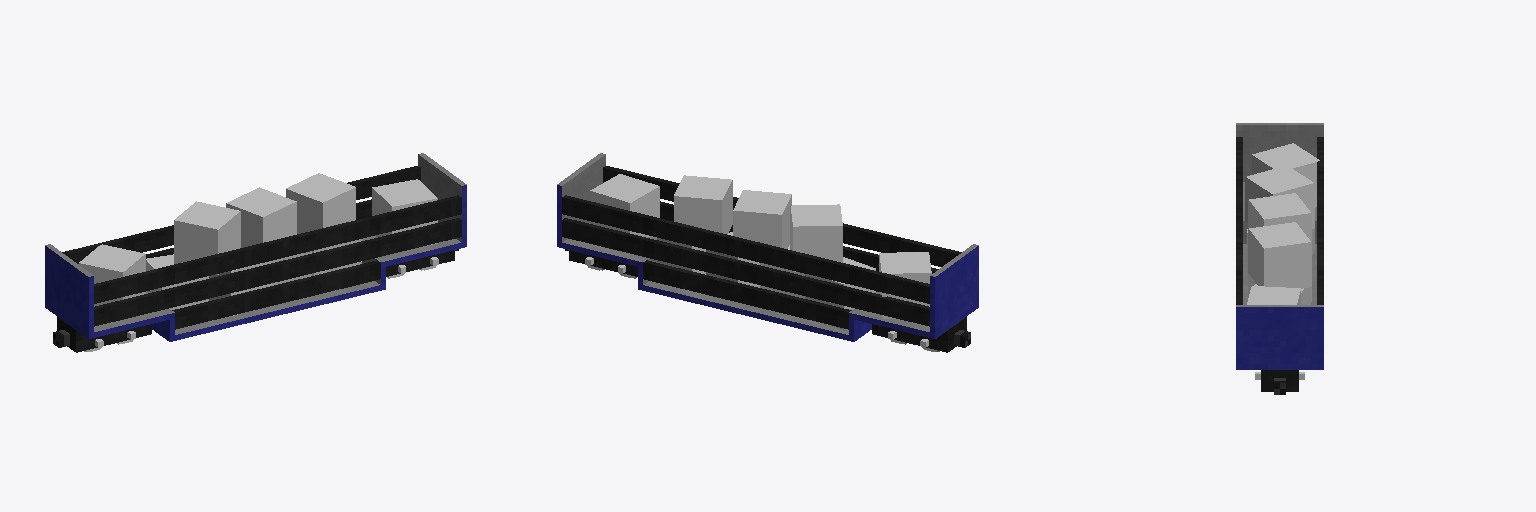
The picture shows the model from 3 angles: view 1: azimuth 30°, elevation 25°; view 2: azimuth 150°, elevation 25°; view 3: azimuth 270°, elevation 25°; orthographic projection.
Visible parts, largest first — view 1: FRAME.001, FRAME, CARGO_FILL_72, CARGO_FILL_94, CARGO_FILL_83, CARGO_FILL_61, CARGO_FILL_50, BOGEY_FRONT, BOGEY_REAR, CARGO_FILL_1; view 2: FRAME.001, FRAME, CARGO_FILL_94, CARGO_FILL_83, CARGO_FILL_72, CARGO_FILL_50, CARGO_FILL_61, BOGEY_FRONT, BOGEY_REAR; view 3: FRAME, CARGO_FILL_94, FRAME.001, CARGO_FILL_72, CARGO_FILL_83, CARGO_FILL_61, CARGO_FILL_50, BOGEY_REAR.
Part boxes in pixels (left/top/right/bottom): FRAME.001: left=62, top=166, right=461, bottom=329; FRAME: left=45, top=153, right=466, bottom=341; CARGO_FILL_72: left=174, top=201, right=240, bottom=274; CARGO_FILL_94: left=286, top=173, right=355, bottom=233; CARGO_FILL_83: left=226, top=187, right=296, bottom=247; CARGO_FILL_61: left=79, top=244, right=145, bottom=306; CARGO_FILL_50: left=372, top=179, right=437, bottom=245; BOGEY_FRONT: left=57, top=317, right=151, bottom=352; BOGEY_REAR: left=386, top=250, right=454, bottom=276; CARGO_FILL_1: left=146, top=254, right=208, bottom=309; FRAME.001: left=562, top=166, right=961, bottom=329; FRAME: left=557, top=153, right=978, bottom=341; CARGO_FILL_94: left=674, top=175, right=732, bottom=234; CARGO_FILL_83: left=733, top=190, right=791, bottom=248; CARGO_FILL_72: left=790, top=204, right=842, bottom=271; CARGO_FILL_50: left=590, top=174, right=659, bottom=237; CARGO_FILL_61: left=879, top=252, right=931, bottom=318; BOGEY_FRONT: left=872, top=317, right=966, bottom=352; BOGEY_REAR: left=569, top=250, right=637, bottom=276; FRAME: left=1236, top=123, right=1323, bottom=369; CARGO_FILL_94: left=1248, top=222, right=1311, bottom=288; FRAME.001: left=1236, top=137, right=1323, bottom=304; CARGO_FILL_72: left=1245, top=165, right=1314, bottom=228; CARGO_FILL_83: left=1248, top=193, right=1311, bottom=241; CARGO_FILL_61: left=1252, top=143, right=1319, bottom=207; CARGO_FILL_50: left=1247, top=286, right=1300, bottom=304; BOGEY_REAR: left=1261, top=370, right=1298, bottom=391.
Bounding box in the file's own units: 4.62 × 1.16 × 0.875.
4 materials, 2 textured.